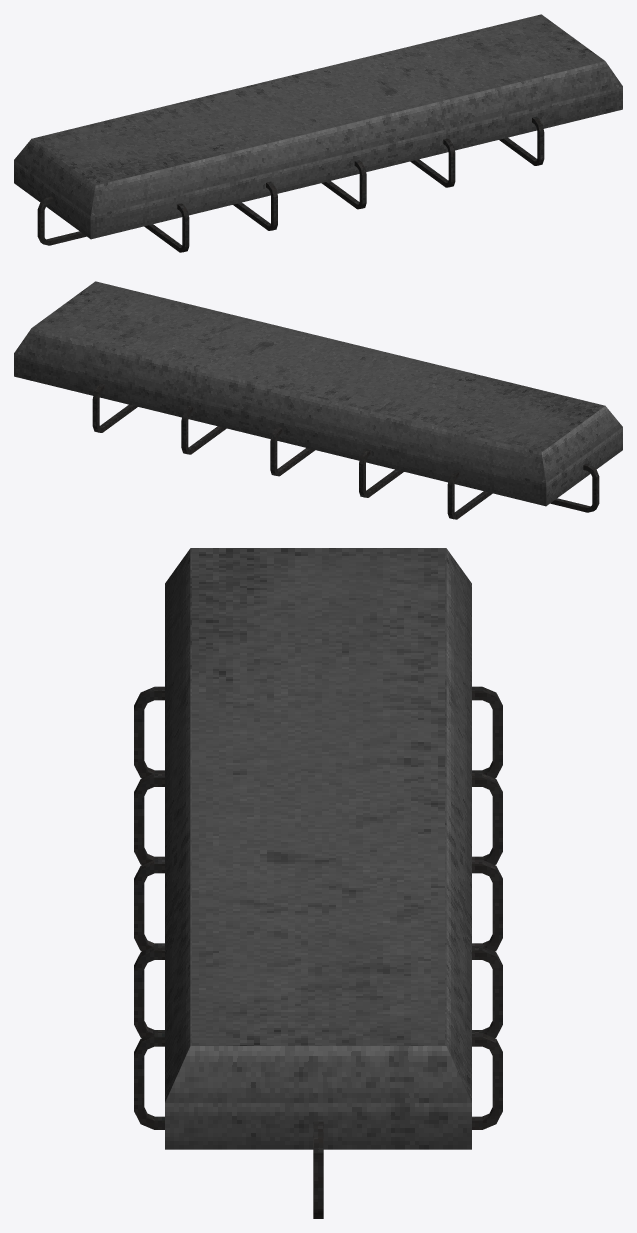
Rendered from ceiling_lamp_4_1_off.glb.
3 views of the same model, one above another, from view 1: azimuth 30°, elevation 25°; view 2: azimuth 150°, elevation 25°; view 3: azimuth 270°, elevation 25° (orthographic). The views are drawn at different scales.
Visible parts, largest first — view 1: ceiling_lamp_4_1_off, ceiling_lamp_4_1_off_protector; view 2: ceiling_lamp_4_1_off, ceiling_lamp_4_1_off_protector; view 3: ceiling_lamp_4_1_off, ceiling_lamp_4_1_off_protector.
Part boxes in pixels (bbox=[...]): ceiling_lamp_4_1_off: bbox=[14, 14, 622, 239]; ceiling_lamp_4_1_off_protector: bbox=[37, 116, 544, 252]; ceiling_lamp_4_1_off: bbox=[14, 281, 622, 506]; ceiling_lamp_4_1_off_protector: bbox=[92, 383, 599, 519]; ceiling_lamp_4_1_off: bbox=[165, 548, 471, 1149]; ceiling_lamp_4_1_off_protector: bbox=[134, 686, 502, 1218].
Size of the model in its own units: 1.26 by 0.17 by 0.36.
2 materials, 2 textured.
